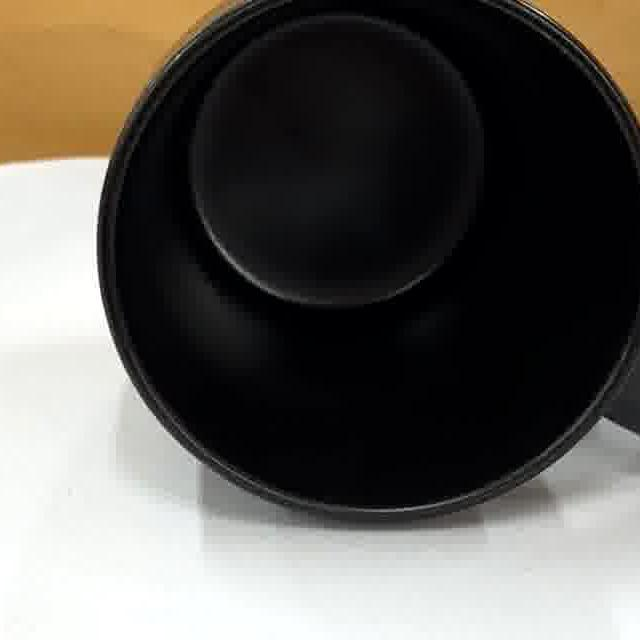cup: (98, 0, 640, 525)
